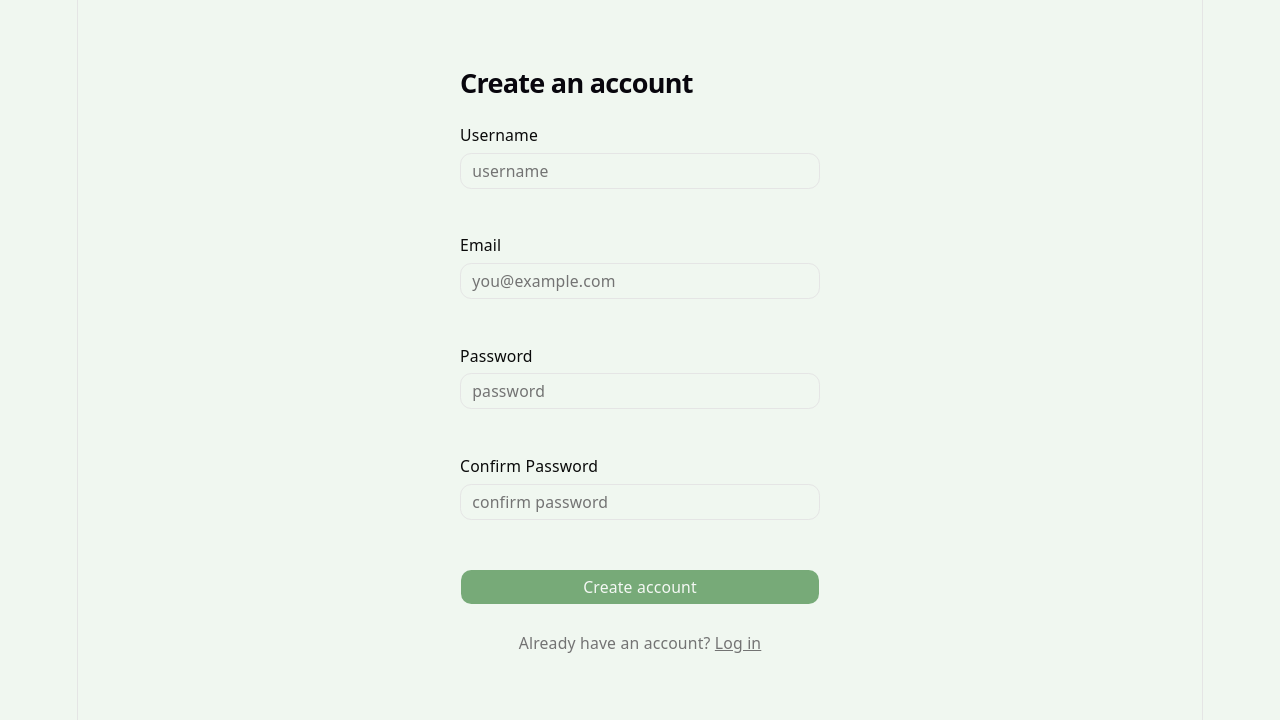
Register › shows a root error message on API failure
Type "alice" into the field labelled "Username".
click(640, 171); type("alice")  # box [460, 153, 820, 189]
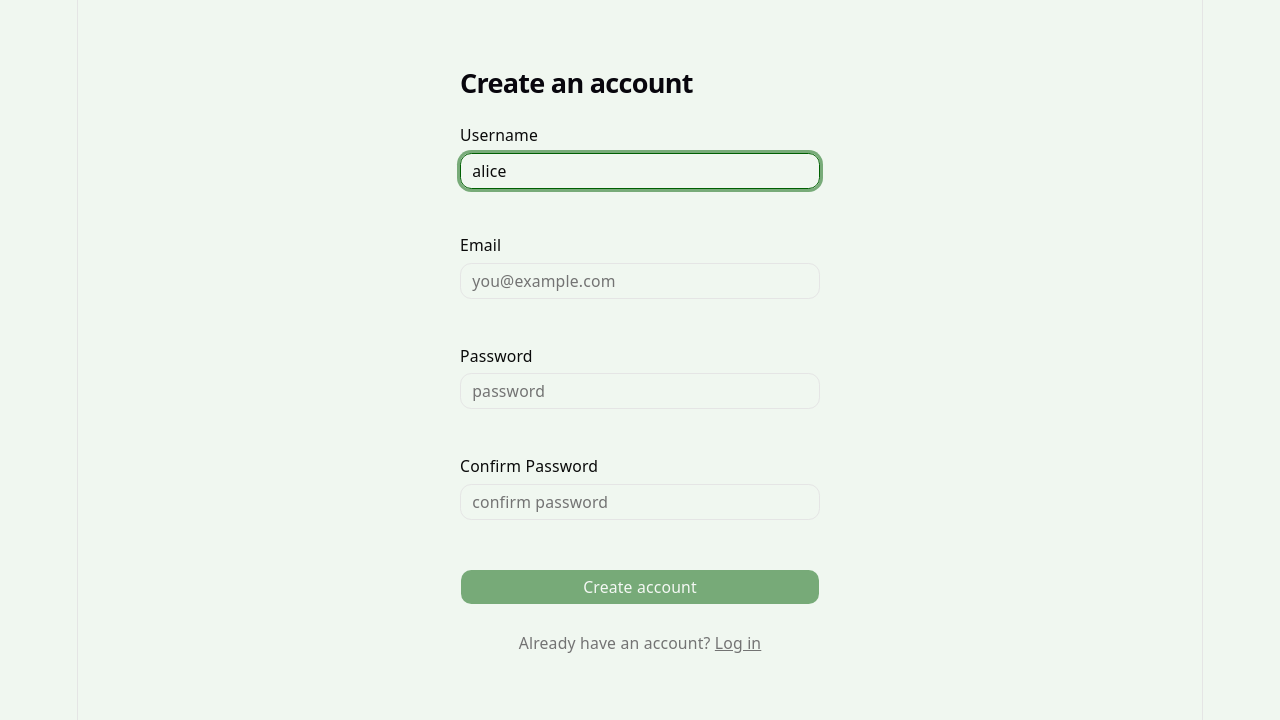
Type "alice@example.com" into the field labelled "Email".
click(640, 281); type("alice@example.com")  # box [460, 263, 820, 299]
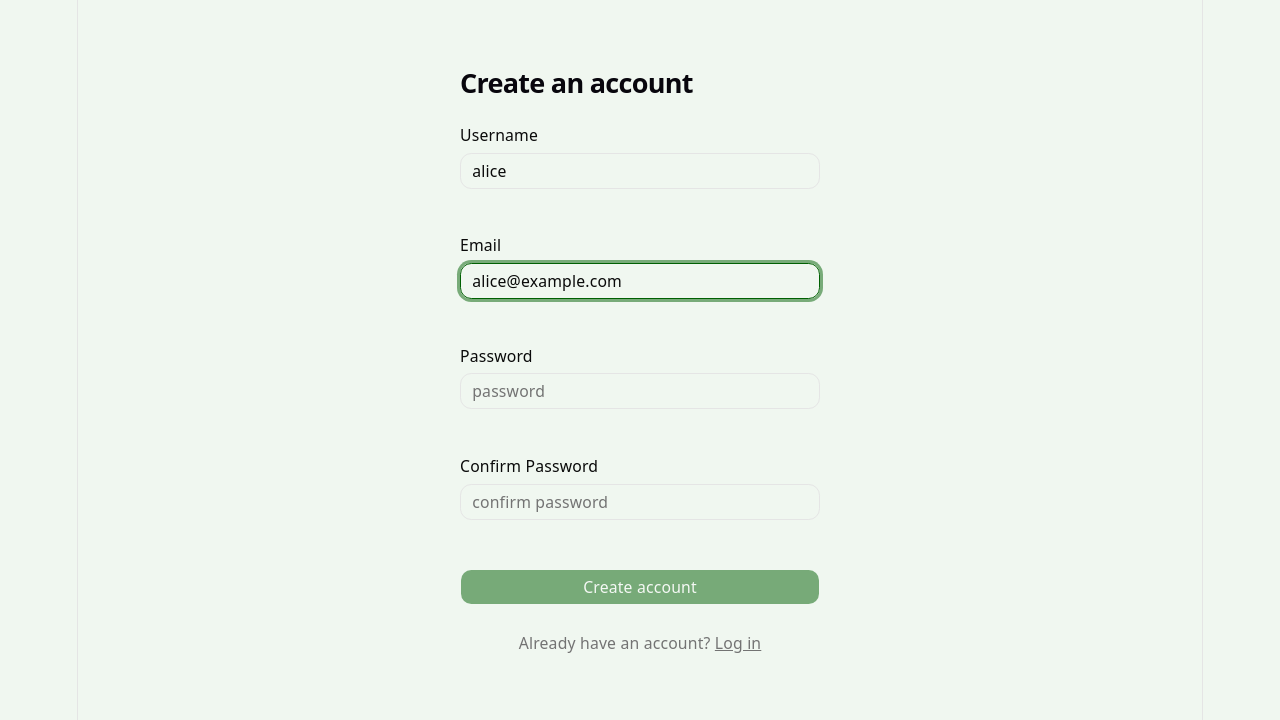
Type "securepass" into the password field labelled "Password".
click(640, 392); type("securepass")  # box [460, 374, 820, 410]
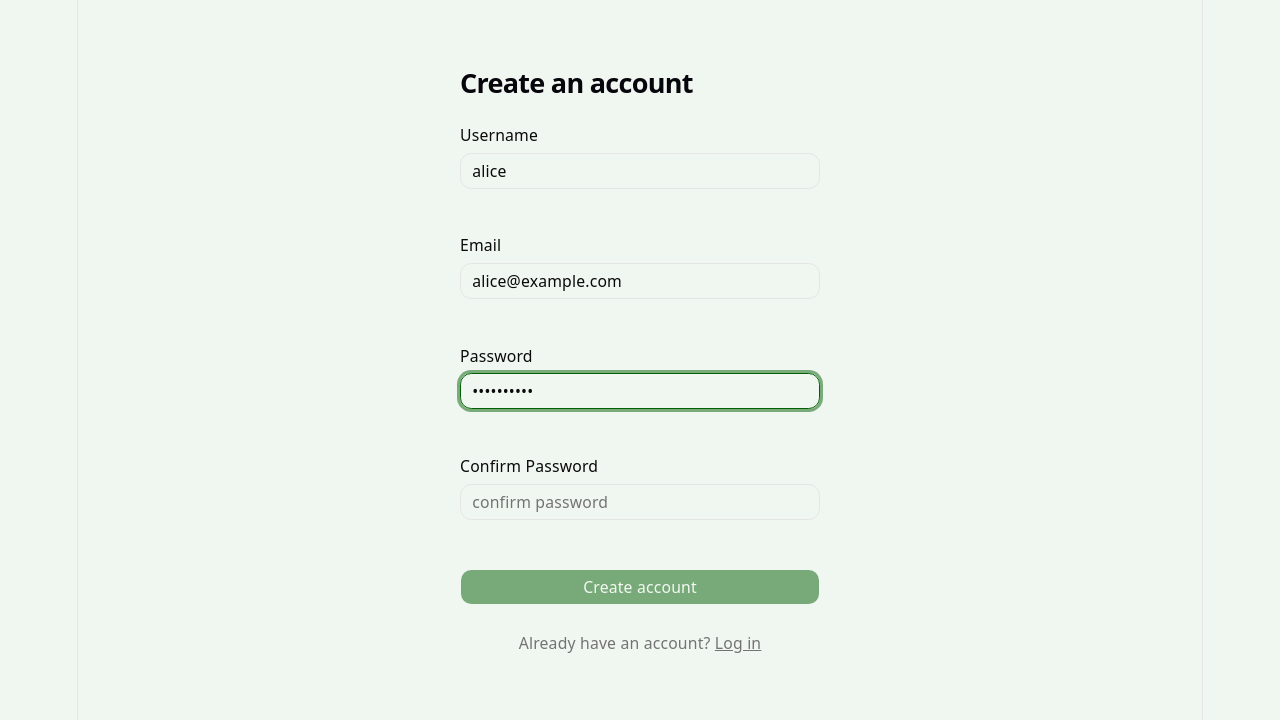
Type "securepass" into the password field labelled "Confirm Password".
click(640, 502); type("securepass")  # box [460, 484, 820, 520]
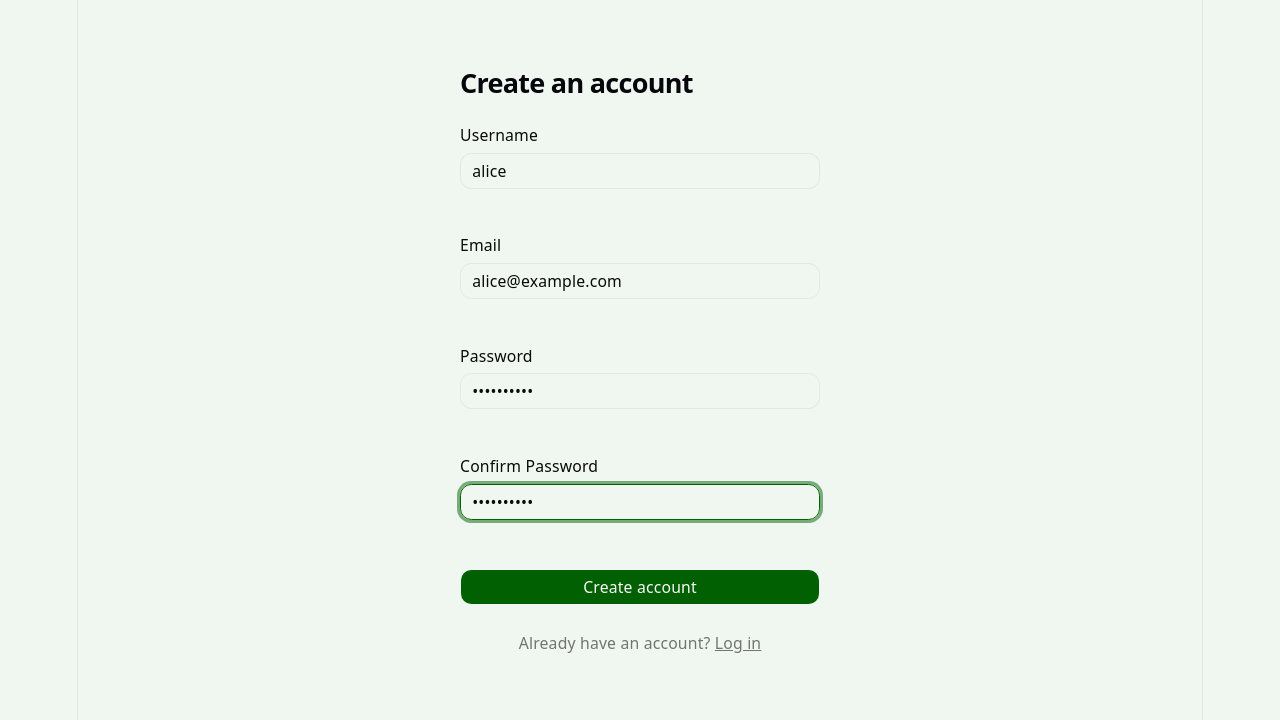
Click the button "Create account".
click(640, 587)  # box [460, 569, 820, 605]
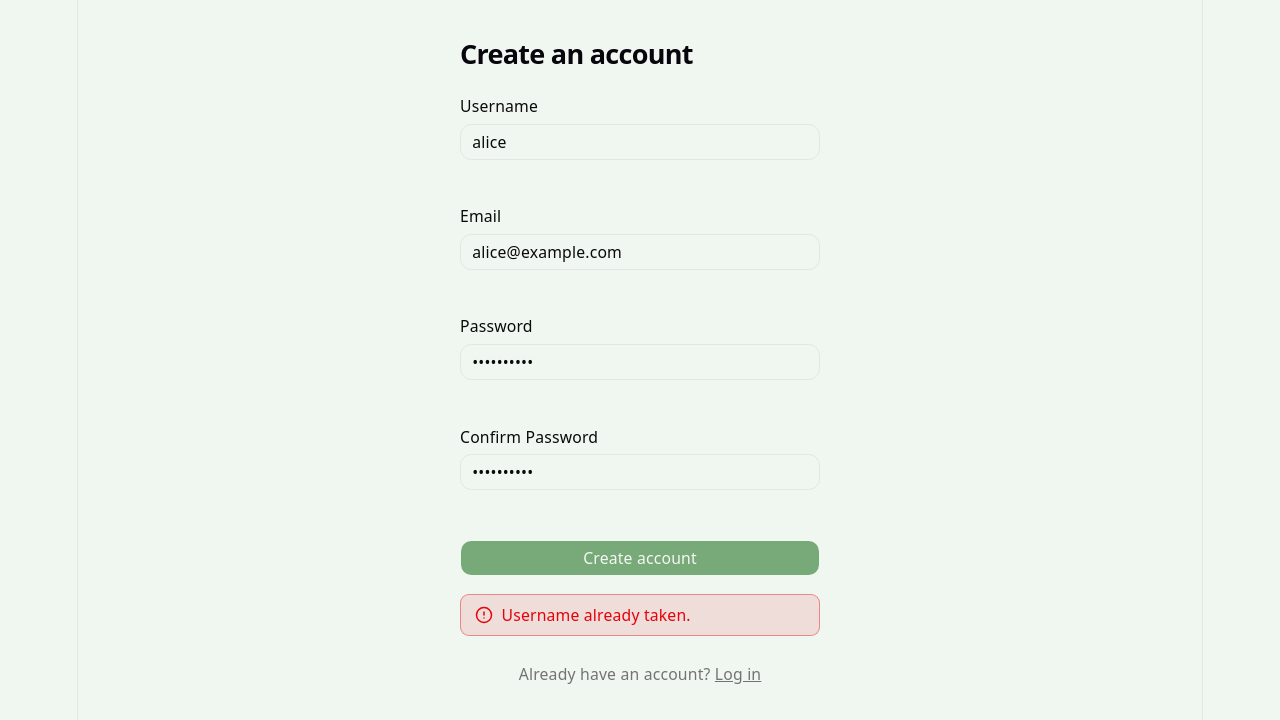
Expected: the text "Username already taken." is shown, [502, 604, 691, 626]
